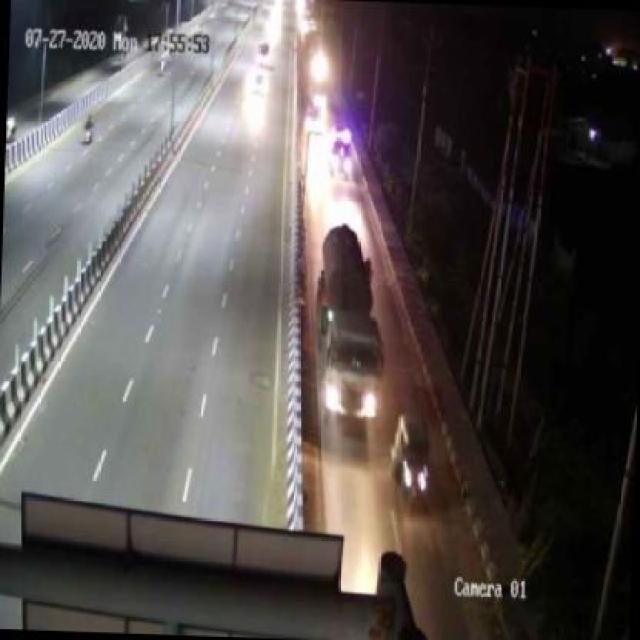car: (328, 134, 363, 168)
